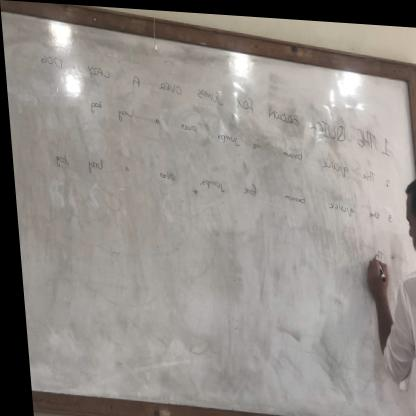Handwritten text: (24, 43, 388, 157), (72, 88, 382, 196), (46, 143, 384, 227)
Lecturer: (373, 157, 416, 416)
Whiteboard: (0, 7, 416, 416)
